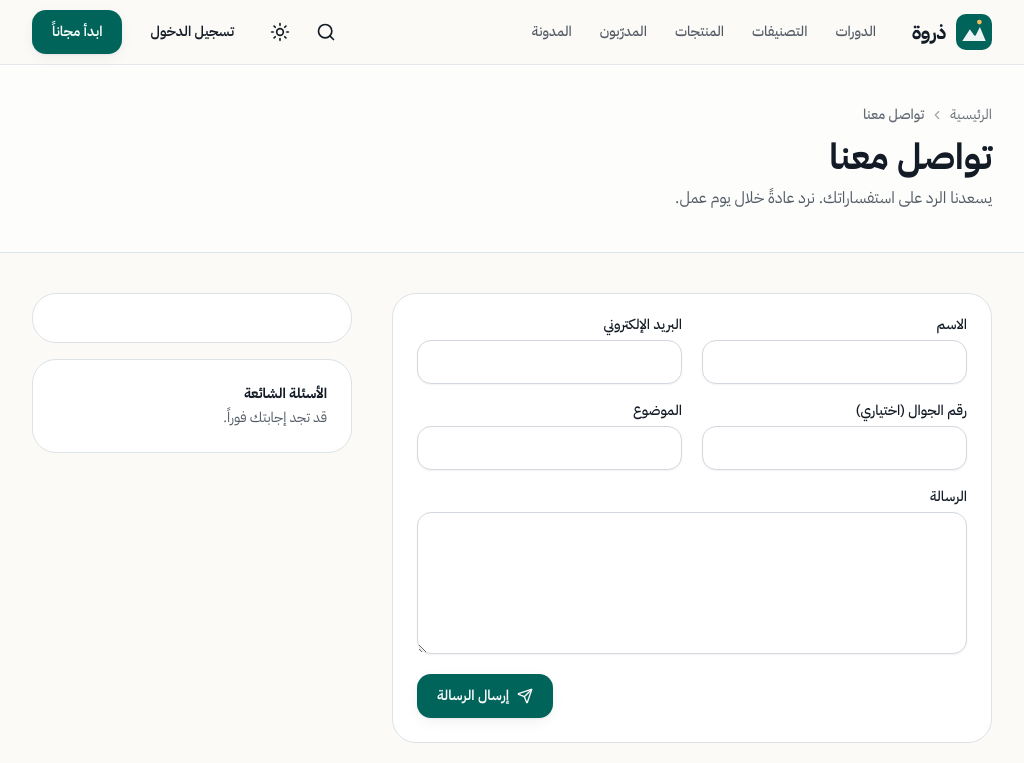
Test: content pages › submits the contact form
Type "سلمى" into the field labelled "الاسم" at {"x": 834, "y": 362}, box [702, 340, 967, 384]
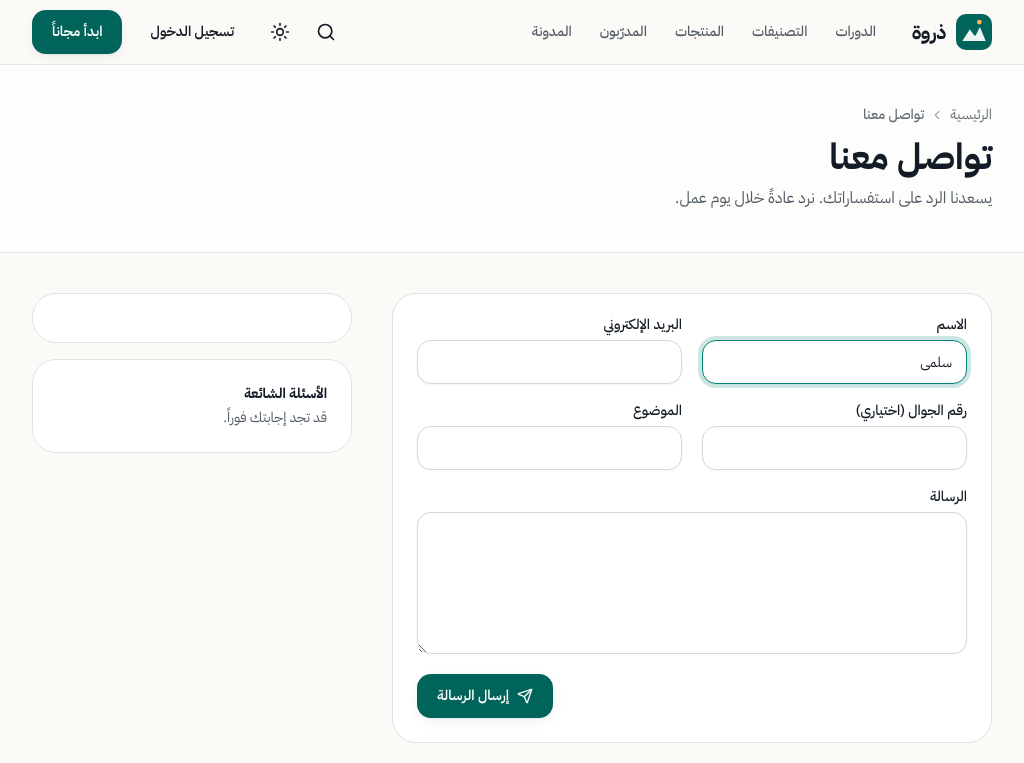
Type "salma@example.com" into the field labelled "البريد الإلكتروني" at {"x": 550, "y": 362}, box [417, 340, 682, 384]
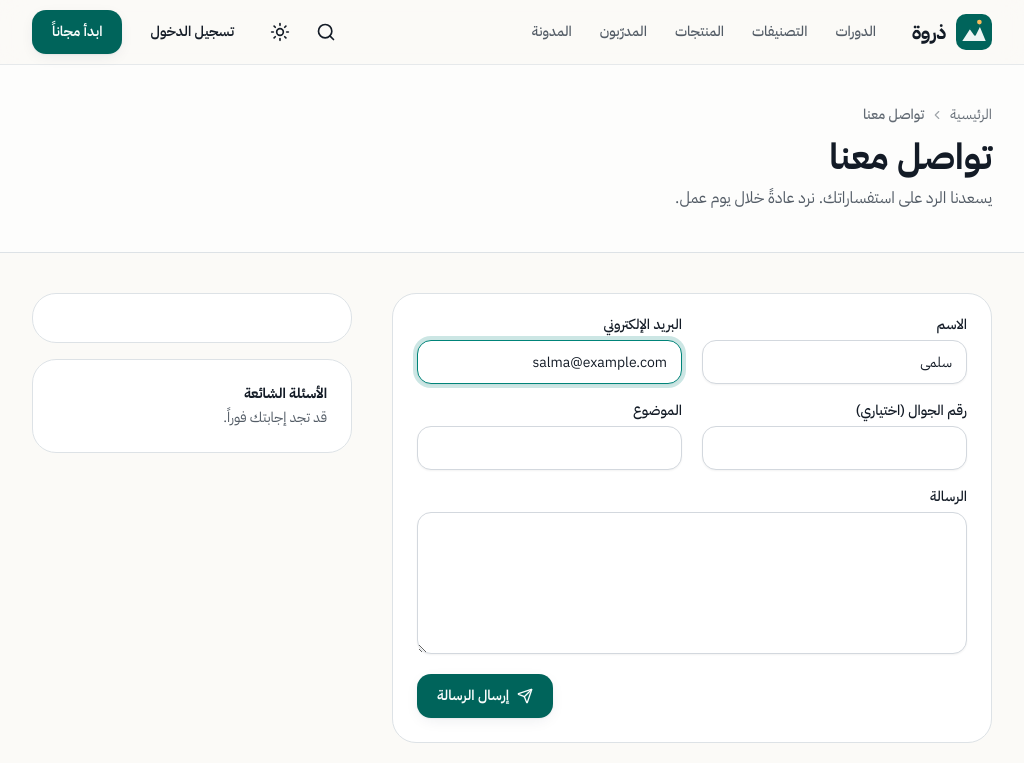
Type "استفسار عن الباقات" into the field labelled "الموضوع" at {"x": 550, "y": 448}, box [417, 426, 682, 470]
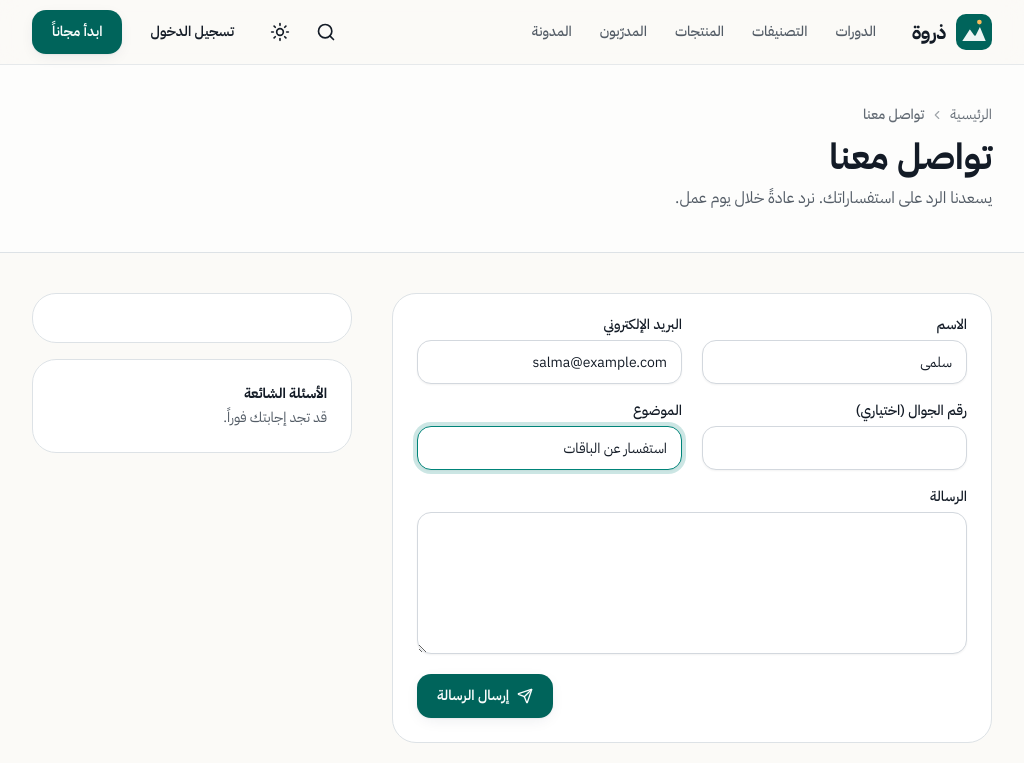
Type "هل يمكن ترقية الباقة لاحقاً؟" into the text box labelled "الرسالة" at {"x": 692, "y": 583}, box [417, 512, 967, 654]
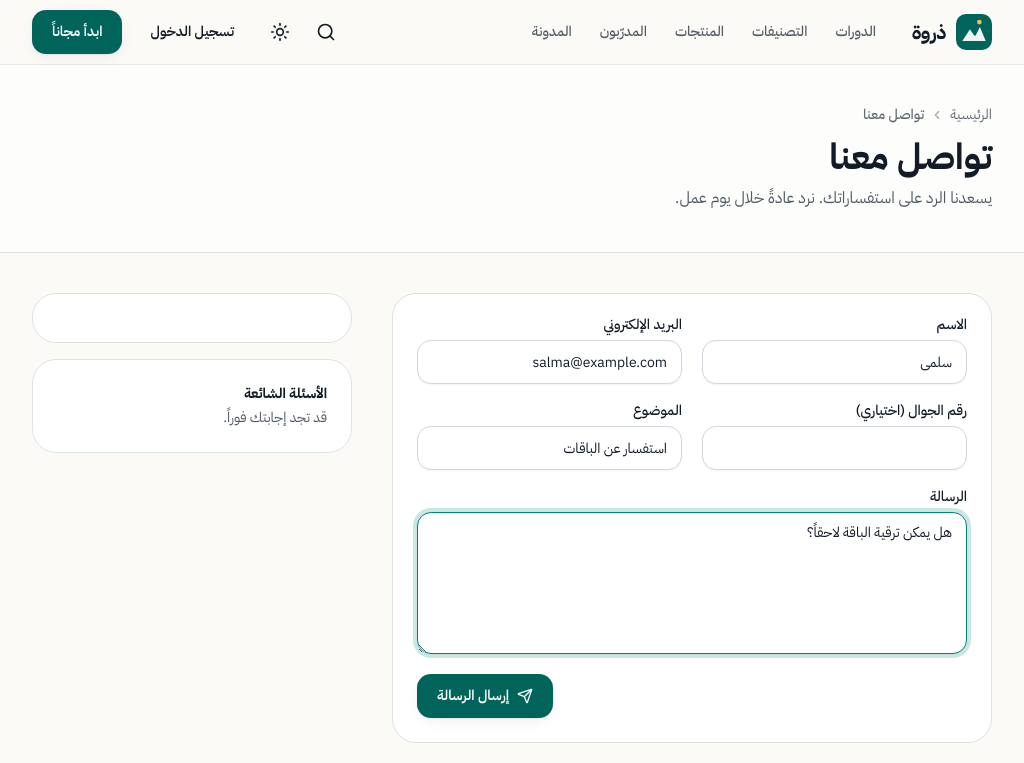
Click the button "إرسال الرسالة" at {"x": 485, "y": 696}, box [417, 674, 553, 718]
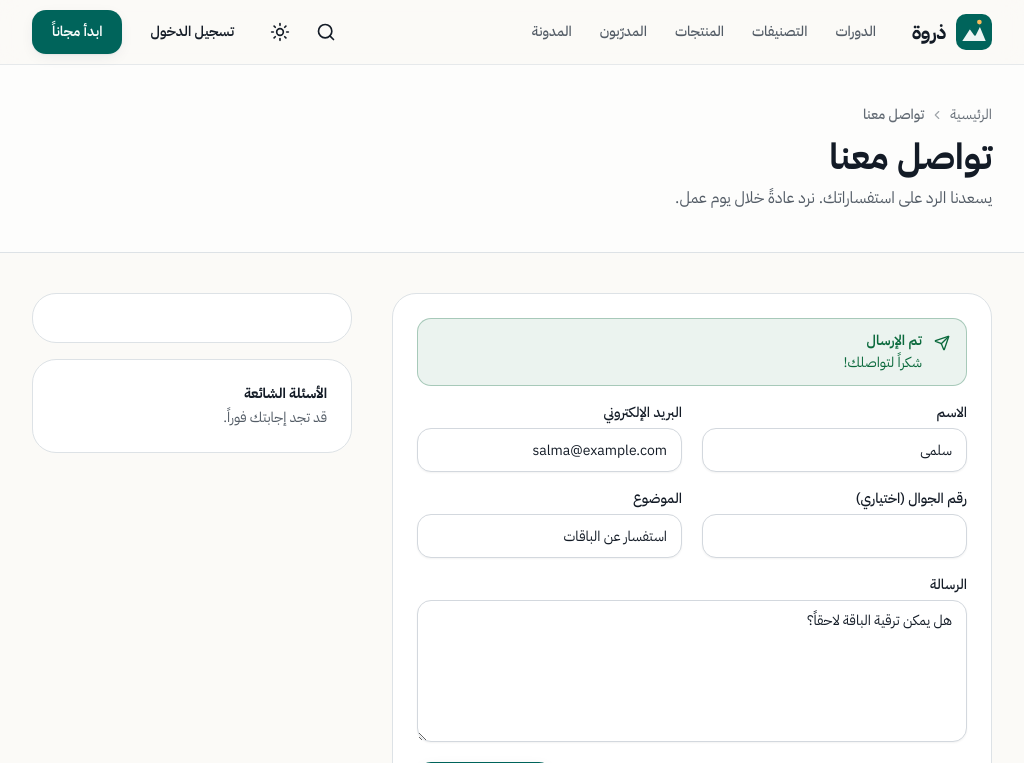
Check: the text "شكراً لتواصلك!" is shown, box [844, 352, 922, 373]
